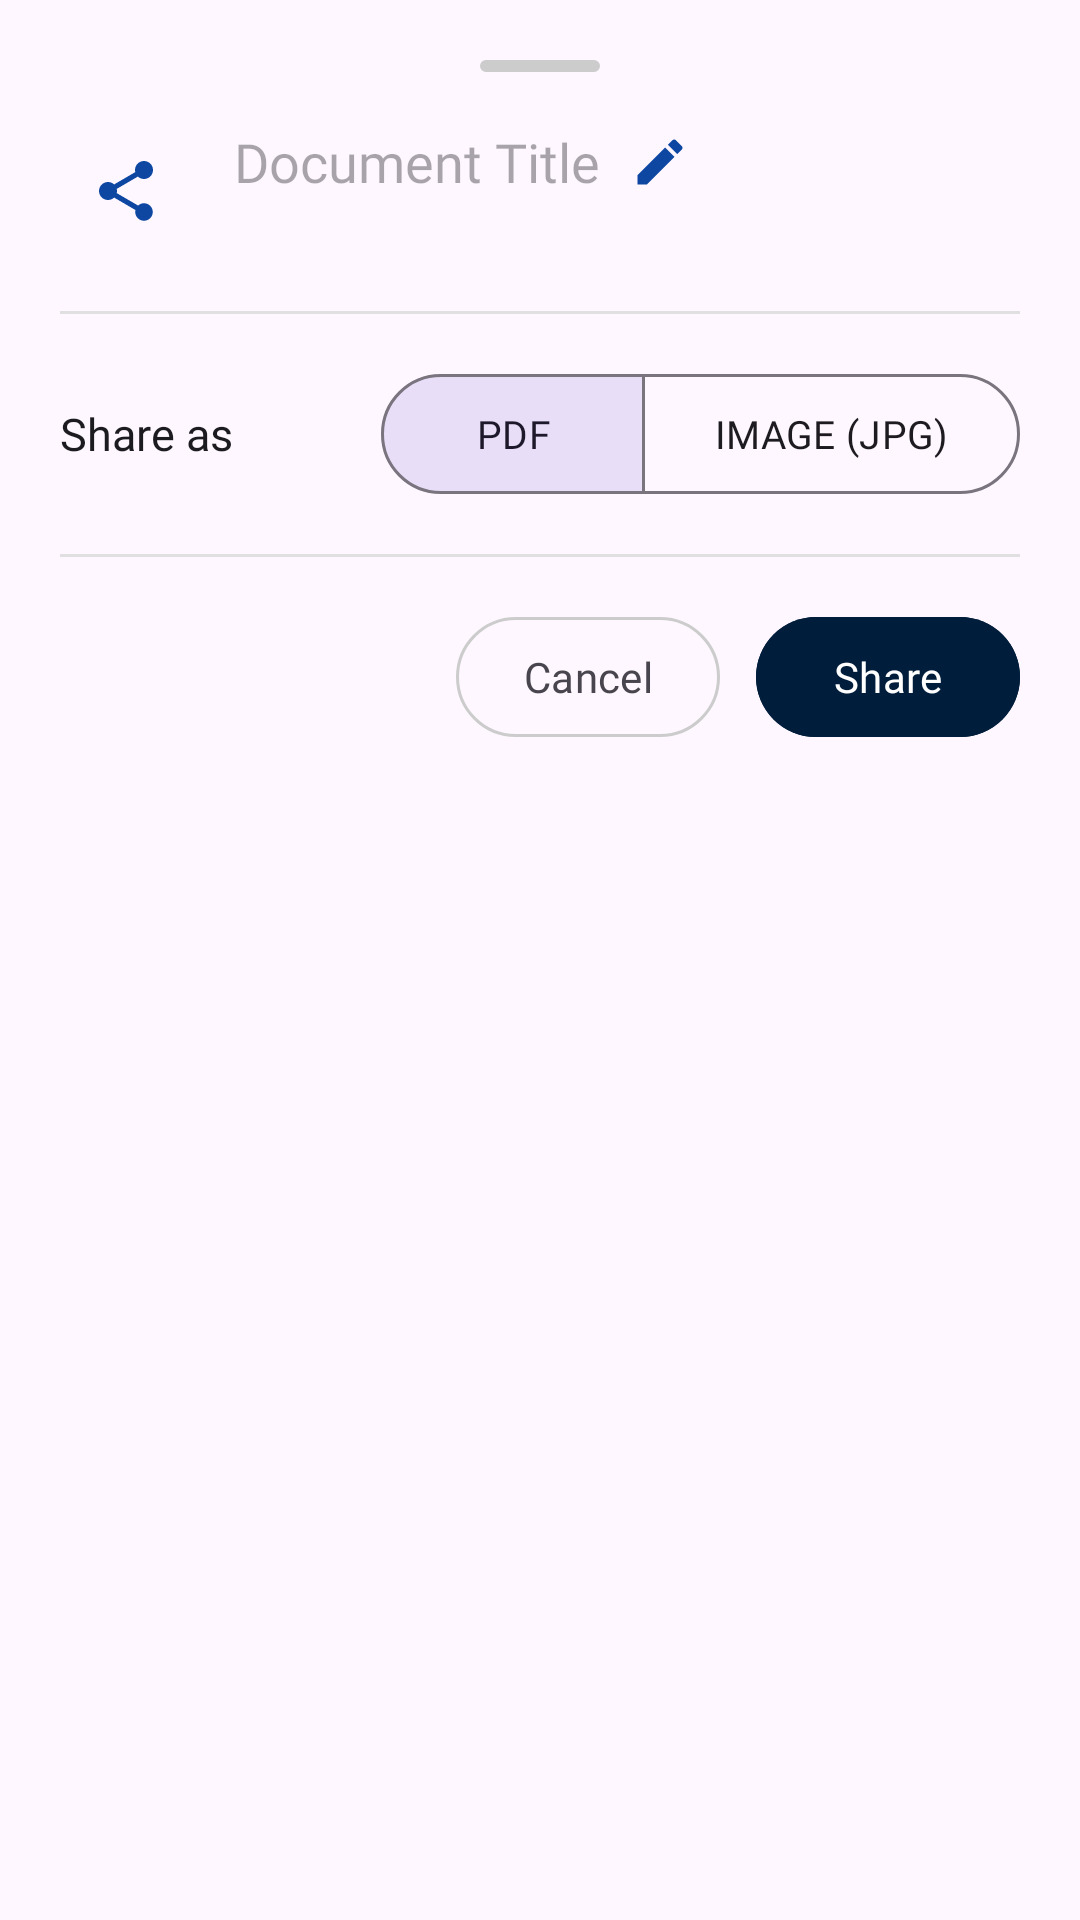

Screen size 1080 x 1920. Icon name, then its box in pixels as box(x1, y1, x2, y2):
Edit Name: box(637, 139, 683, 185)
Share Icon: box(99, 161, 153, 221)
